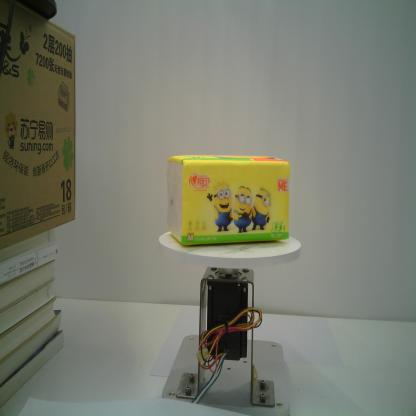Tissue: (166, 152, 290, 247)
